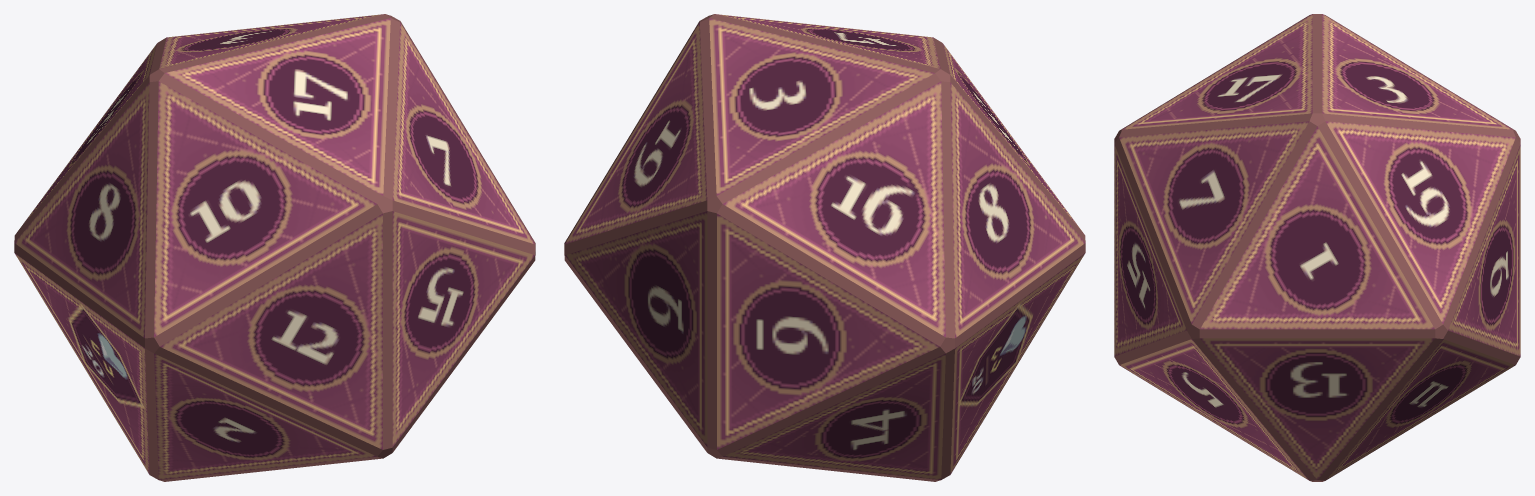
The picture shows the model from 3 angles, left to right: view 1: azimuth 30°, elevation 25°; view 2: azimuth 150°, elevation 25°; view 3: azimuth 270°, elevation 25°; orthographic projection. The views are drawn at different scales.
Bounding box in the file's own units: 160 × 160 × 160.
Materials: 1 (1 with a texture image).
